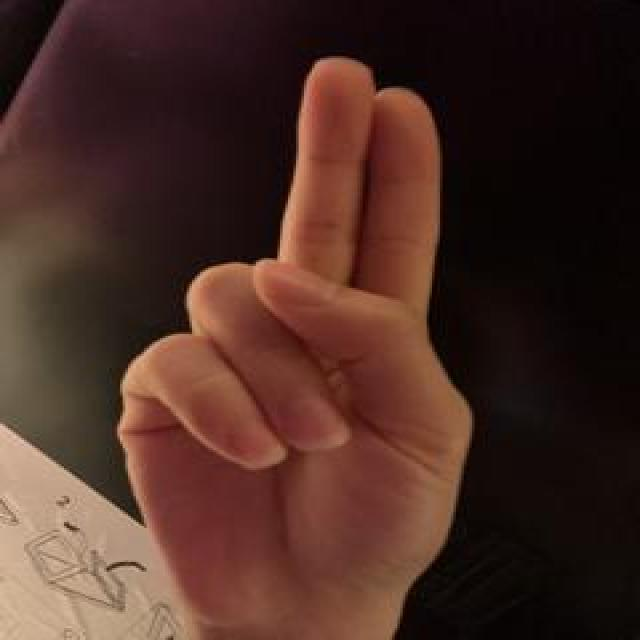U: (111, 52, 484, 638)
